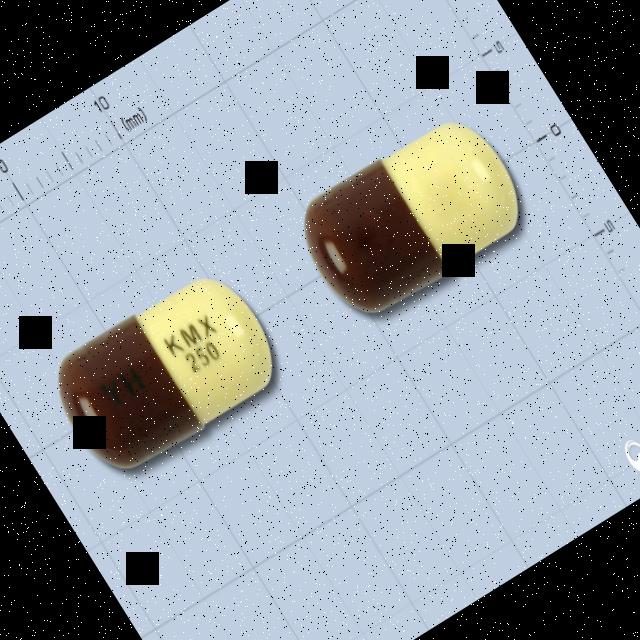Kymoxin Cap: (38, 256, 292, 488)
